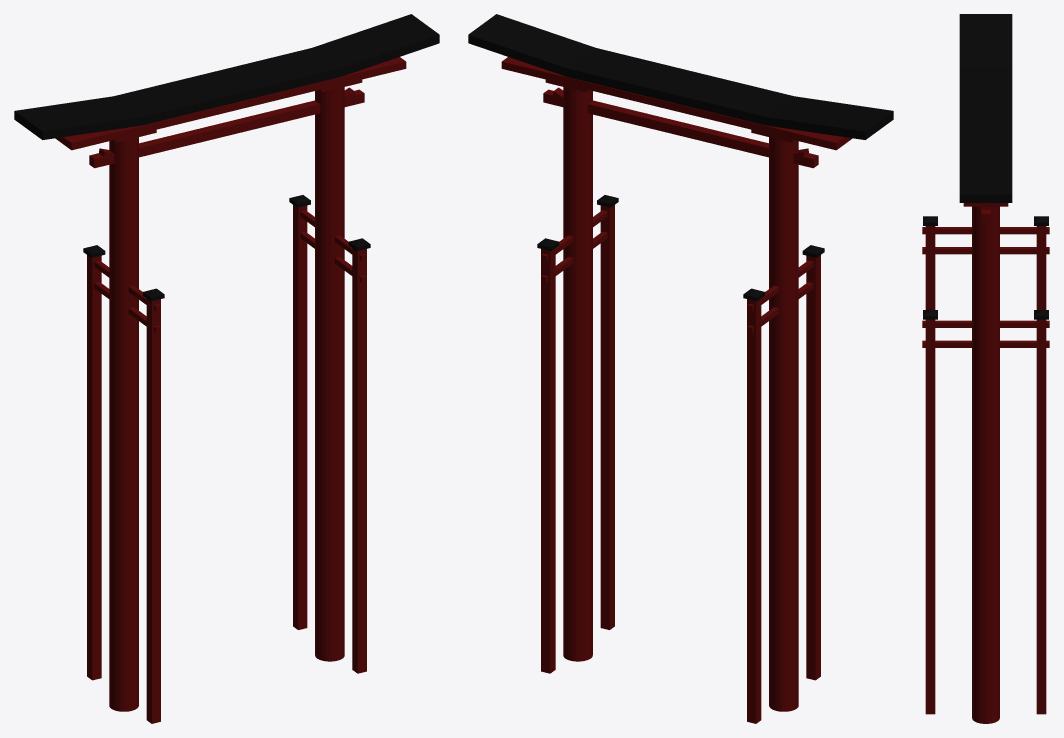
File: Tori.obj
3 views of the same model, side by side, from view 1: azimuth 30°, elevation 25°; view 2: azimuth 150°, elevation 25°; view 3: azimuth 270°, elevation 25° (orthographic). The views are drawn at different scales.
Parts seen in each view (by area): view 1: Cylinder, Cube.005, Cube.004, Cube.001, Cube, Cube.007, Cube.006; view 2: Cylinder, Cube.005, Cube.004, Cube.001, Cube, Cube.007, Cube.006; view 3: Cylinder, Cube.005, Cube.004, Cube.007, Cube.006.
Part boxes in pixels (x1,y1,x2,y2): Cylinder: [109, 87, 344, 711]; Cube.005: [87, 205, 366, 723]; Cube.004: [14, 14, 439, 139]; Cube.001: [89, 87, 364, 168]; Cube: [55, 57, 406, 150]; Cube.007: [94, 210, 366, 333]; Cube.006: [83, 195, 370, 301]; Cylinder: [563, 87, 798, 711]; Cube.005: [541, 205, 820, 723]; Cube.004: [468, 14, 893, 139]; Cube.001: [543, 87, 818, 168]; Cube: [501, 57, 852, 150]; Cube.007: [541, 210, 813, 333]; Cube.006: [537, 195, 824, 301]; Cylinder: [972, 206, 999, 723]; Cube.005: [925, 226, 1046, 714]; Cube.004: [959, 14, 1012, 202]; Cube.007: [922, 227, 1049, 347]; Cube.006: [923, 216, 1048, 319].
Bounding box in the file's own units: 7.72 × 11.28 × 2.3.
